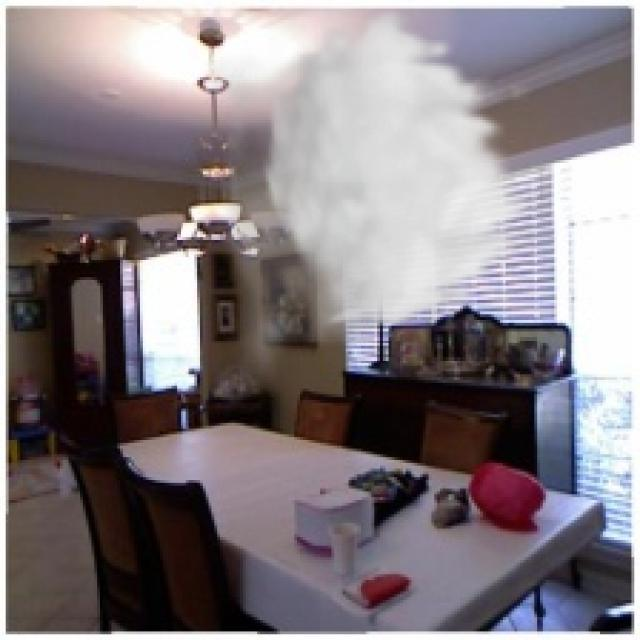Smoke: (197, 6, 540, 397)
